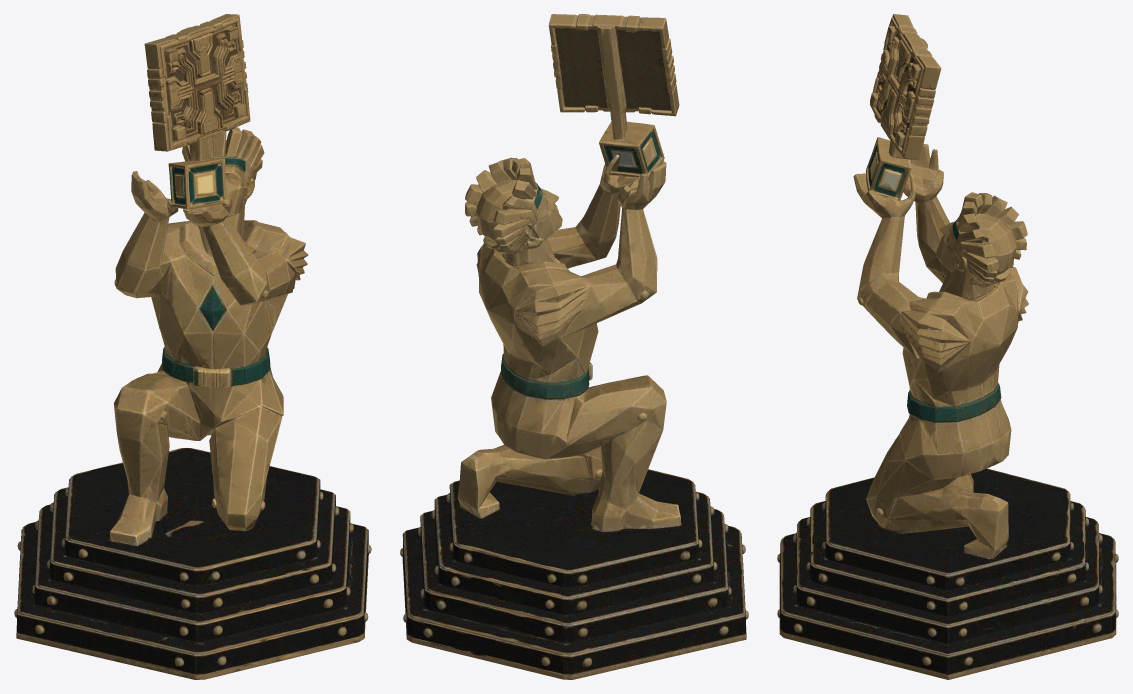
Rendered from innovation-kneeling.glb.
The picture shows the model from 3 angles, left to right: view 1: azimuth 30°, elevation 25°; view 2: azimuth 150°, elevation 25°; view 3: azimuth 270°, elevation 25°; orthographic projection. The views are drawn at different scales.
Size of the model in its own units: 1.19 by 1.9 by 1.06.
1 material, 1 textured.
